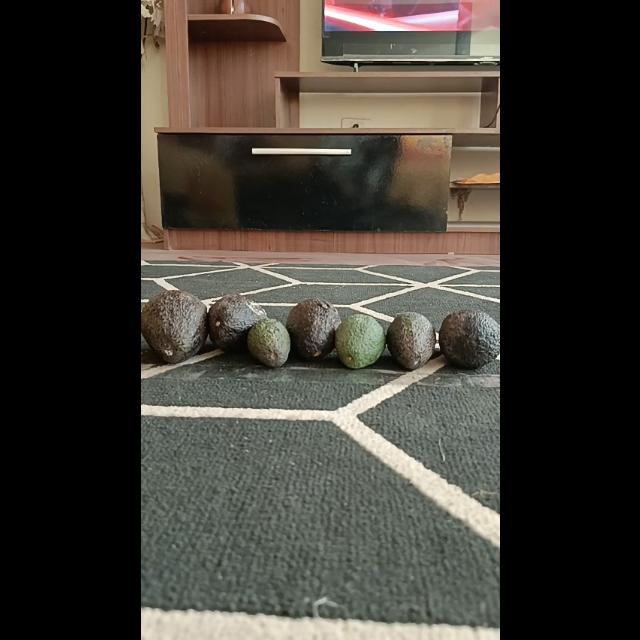Primera: (140, 290, 208, 362), (438, 309, 498, 369), (206, 294, 266, 352), (285, 298, 339, 359)
Segunda: (334, 314, 386, 370), (386, 312, 436, 370)
Tercera: (246, 318, 290, 368)
